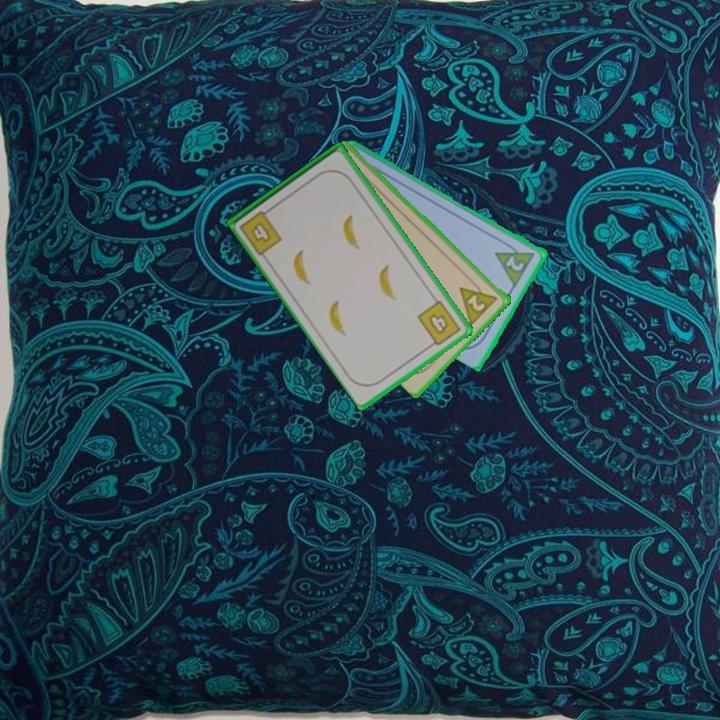2p: (456, 274, 501, 327), (502, 252, 528, 274)
4b: (413, 297, 464, 351), (236, 204, 285, 258)
